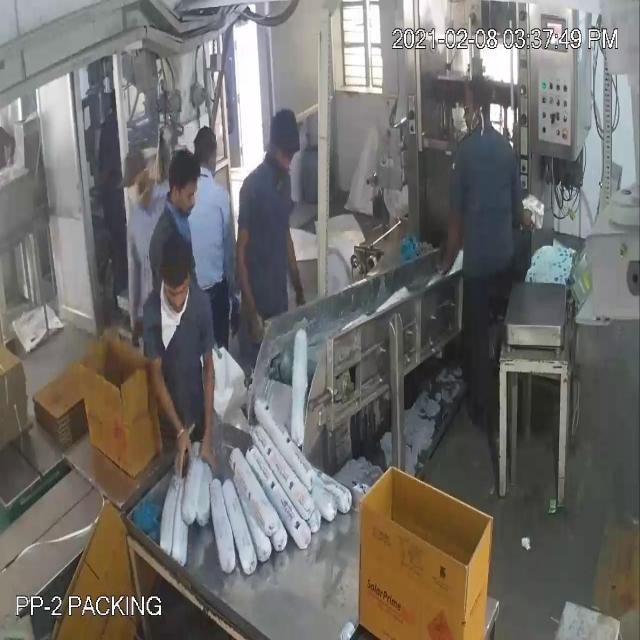No_Gloves: (31, 92, 296, 422)
